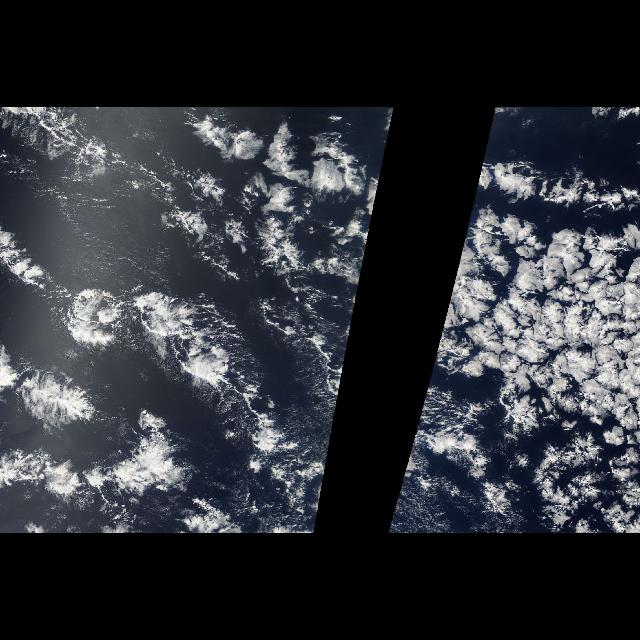Flower: (0, 119, 392, 534), (385, 119, 639, 534)
Sugar: (444, 202, 636, 446)
